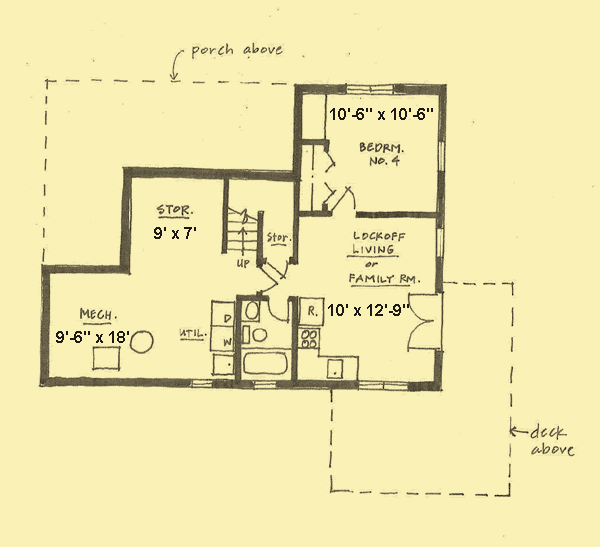door: (407, 292, 442, 352), (267, 297, 291, 325)
stairs: (223, 202, 261, 268)
tub: (239, 348, 291, 381)
windows: (345, 82, 397, 98), (357, 380, 409, 393), (433, 226, 445, 258), (437, 140, 447, 175)
